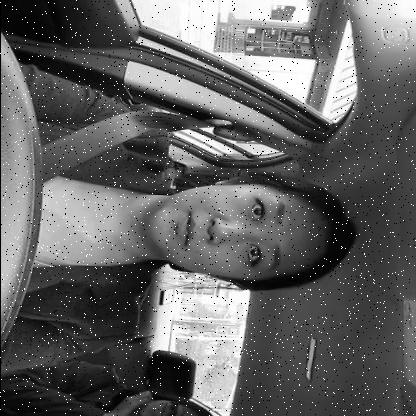seatbelt: (35, 103, 366, 292)
